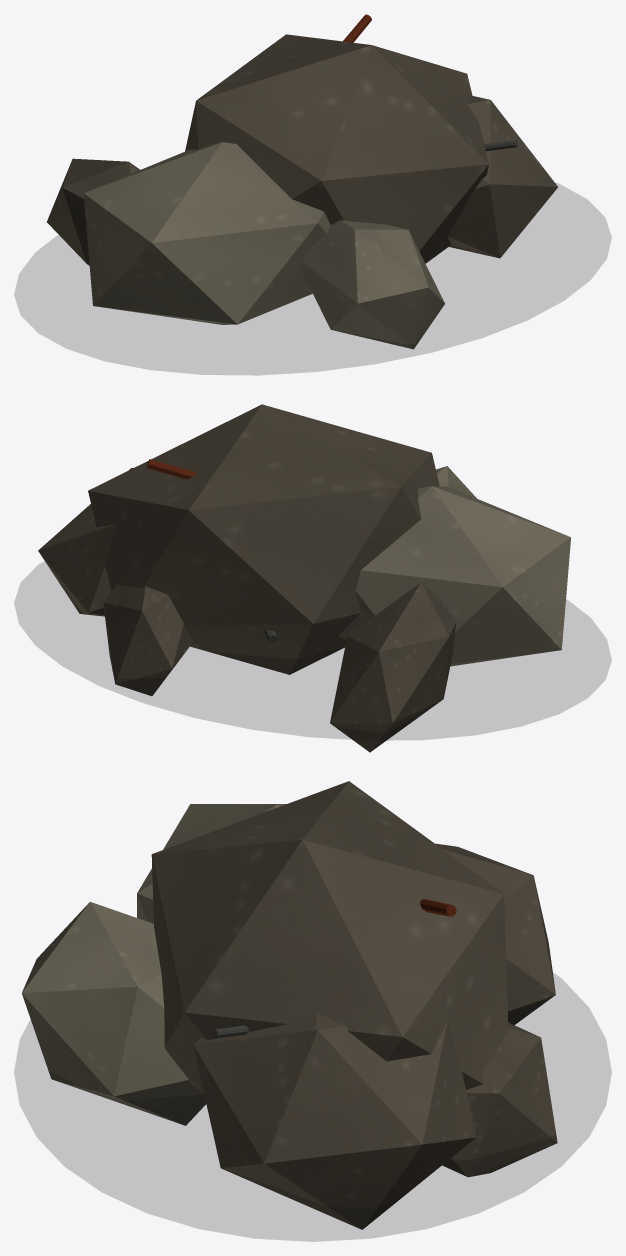
The model's file is rubble_rock_bc_v1.glb.
3 renders of one model, top to bottom at view 1: azimuth 30°, elevation 25°; view 2: azimuth 150°, elevation 25°; view 3: azimuth 270°, elevation 25°, orthographic. The views are drawn at different scales.
Visible parts, largest first — view 1: fractured_rubble_1, ground_contact_shadow.005, fractured_rubble_0, fractured_rubble_3, fractured_rubble_2, fractured_rubble_4; view 2: fractured_rubble_1, ground_contact_shadow.005, fractured_rubble_0, fractured_rubble_4, fractured_rubble_5, fractured_rubble_2, fractured_rubble_3, exposed_rebar_a; view 3: fractured_rubble_1, ground_contact_shadow.005, fractured_rubble_2, fractured_rubble_3, fractured_rubble_5, fractured_rubble_4, fractured_rubble_0.
Boxes of the visible parts, x1,y1,x2,y2 form: fractured_rubble_1: (185, 34, 488, 263); ground_contact_shadow.005: (14, 183, 611, 374); fractured_rubble_0: (83, 142, 330, 324); fractured_rubble_3: (302, 220, 444, 349); fractured_rubble_2: (447, 95, 557, 258); fractured_rubble_4: (47, 158, 139, 265); fractured_rubble_1: (88, 404, 439, 674); ground_contact_shadow.005: (14, 561, 611, 739); fractured_rubble_0: (338, 486, 570, 666); fractured_rubble_4: (330, 582, 456, 752); fractured_rubble_5: (103, 584, 193, 696); fractured_rubble_2: (38, 468, 132, 616); fractured_rubble_3: (436, 466, 476, 498); exposed_rebar_a: (147, 459, 196, 479); fractured_rubble_1: (151, 781, 508, 1093); ground_contact_shadow.005: (14, 973, 611, 1241); fractured_rubble_2: (193, 1011, 476, 1229); fractured_rubble_3: (21, 902, 206, 1125); fractured_rubble_5: (442, 1022, 557, 1177); fractured_rubble_4: (435, 843, 555, 1024); fractured_rubble_0: (137, 804, 286, 923).
Bounding box in the file's own units: 2.2 × 0.9495 × 1.64.
5 materials, 5 textured.
